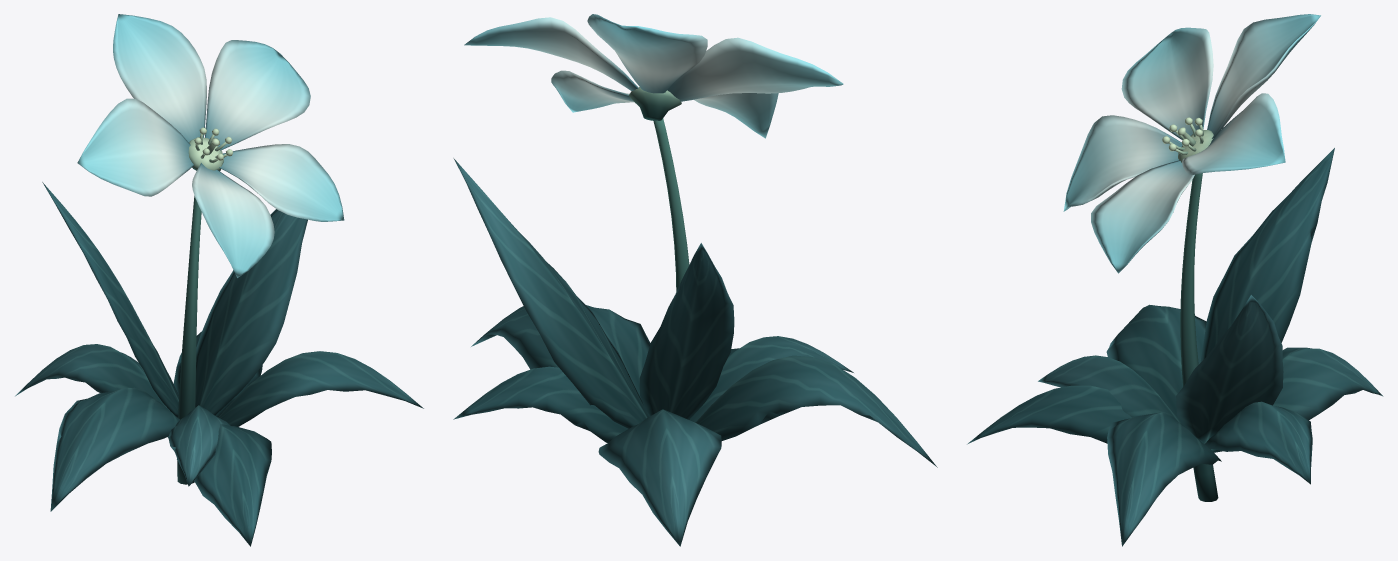
Rendered from MoonTear.fbx.
The picture shows the model from 3 angles, left to right: view 1: azimuth 30°, elevation 25°; view 2: azimuth 150°, elevation 25°; view 3: azimuth 270°, elevation 25°; orthographic projection. The views are drawn at different scales.
Visible parts, largest first — view 1: MoonTear; view 2: MoonTear; view 3: MoonTear.
Part boxes in pixels (x1,y1,x2,y2): MoonTear: [15, 14, 423, 546]; MoonTear: [453, 14, 937, 546]; MoonTear: [967, 14, 1383, 546].
Bounding box in the file's own units: 0.3451 × 0.3784 × 0.302.
